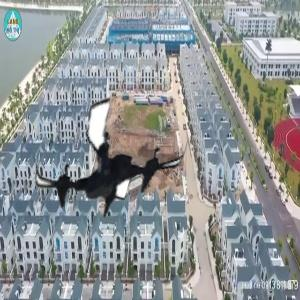drone: (37, 93, 182, 238)
